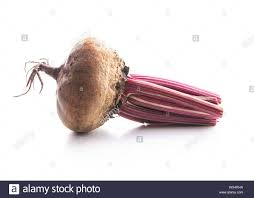beet: (13, 38, 223, 133)
